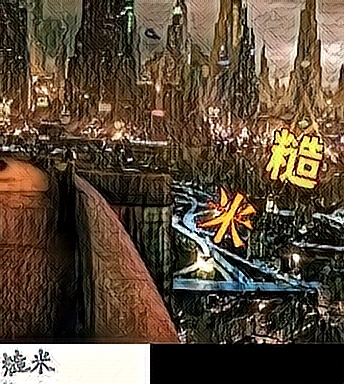B2DA: (262, 127, 327, 191)
C3D7: (194, 186, 259, 250)
